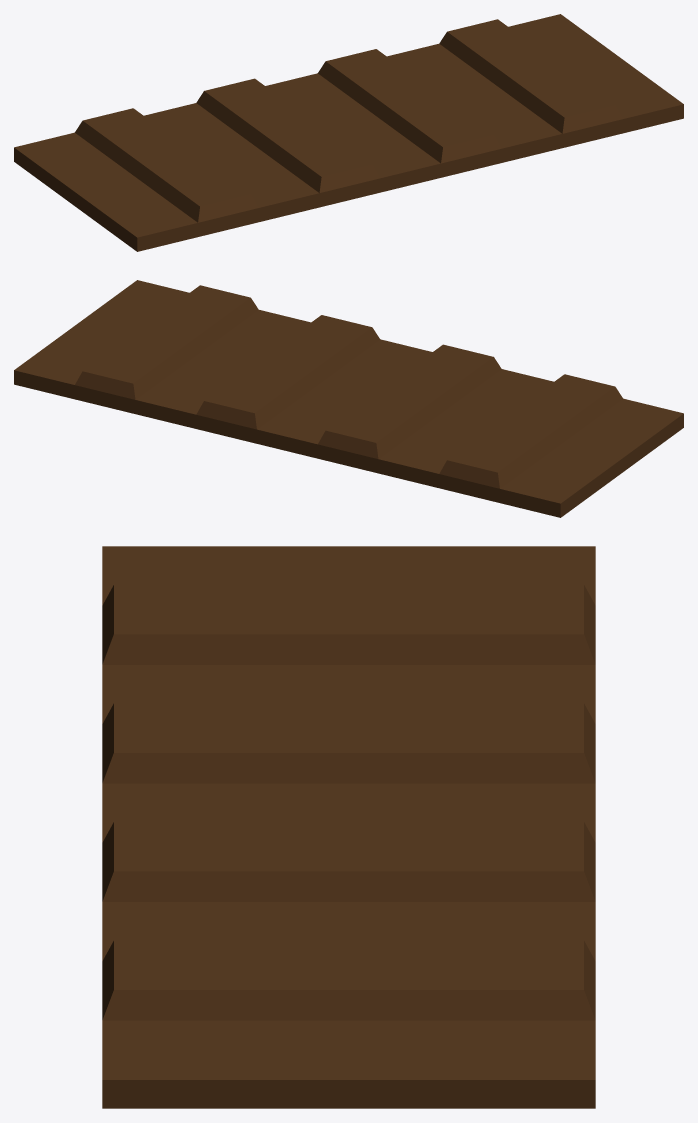
Rendered from Natures_FlowerBad.fbx.
3 renders of one model, top to bottom at view 1: azimuth 30°, elevation 25°; view 2: azimuth 150°, elevation 25°; view 3: azimuth 270°, elevation 25°, orthographic. The views are drawn at different scales.
Parts seen in each view (by area): view 1: Cube; view 2: Cube; view 3: Cube.
Part boxes in pixels (x1,y1,x2,y2): Cube: [14, 14, 683, 251]; Cube: [14, 280, 683, 517]; Cube: [102, 546, 595, 1108].
Bounding box in the file's own units: 775 × 36.9 × 303.
